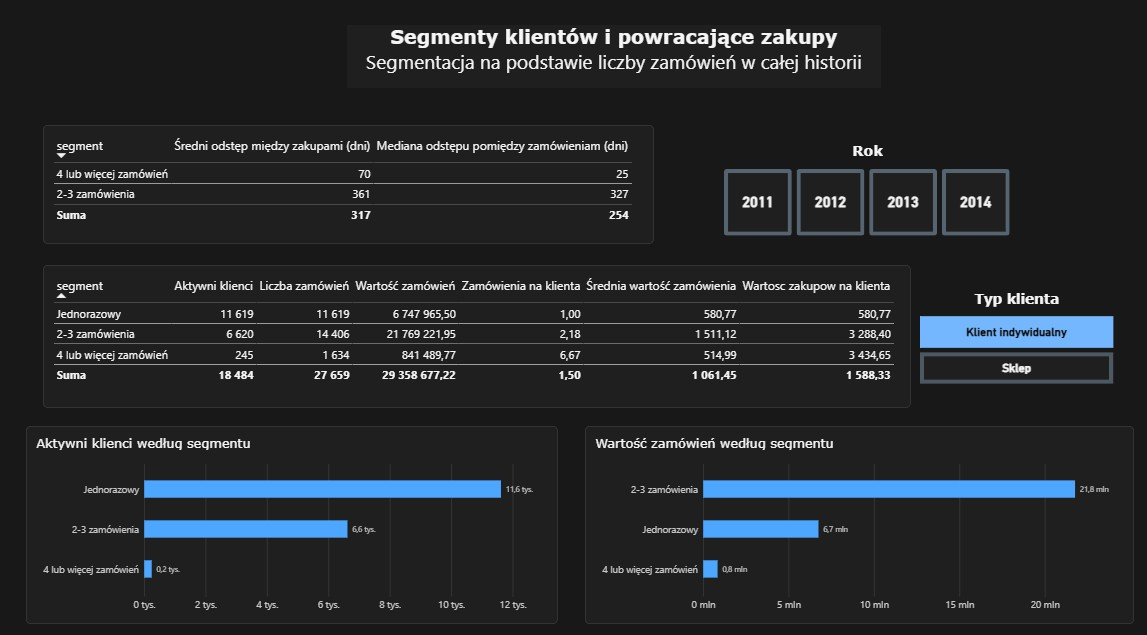

The dashboard page shown, as its layout file describes it:
{"tool":"powerbi","page":{"name":"Segmenty klientów","canvas":[1920,1080],"ordinal":1},"visuals":[{"type":"tableEx","fields":{"Values":["Klienci.segment","_Miary.Aktywni klienci","_Miary.Liczba zamówień","_Miary.Wartość zamówień","_Miary.Zamówienia na klienta","_Miary.Średnia wartość zamówienia","_Miary.Wartosc zakupow na klienta"]},"box":[78.8,452.3,1445.8,237.8],"z":0},{"type":"tableEx","fields":{"Values":["Klienci.segment","_Miary.Średni odstęp między zakupami","_Miary.Mediana odstępu pomiędzy zamówieniami"]},"box":[78.8,218.8,1018.4,198.4],"z":1000},{"type":"barChart","title":"Aktywni klienci według segmentu","fields":{"Category":["Klienci.segment"],"Y":["_Miary.Aktywni klienci"]},"box":[49.6,719.3,885.6,329.7],"z":2000},{"type":"barChart","title":"Wartość zamówień według segmentu","fields":{"Category":["Klienci.segment"],"Y":["_Miary.Wartość zamówień"]},"box":[981.9,719.3,914.8,329.7],"z":3000},{"type":"advancedSlicerVisual","title":"Typ klienta","fields":{"Values":["Klienci.typ_klienta"]},"box":[1540.7,493.1,322.4,156.1],"z":4001},{"type":"advancedSlicerVisual","fields":{"Values":["Kalendarz.ROK"]},"box":[1213.9,246.6,478.9,156.3],"z":4002},{"type":"textbox","box":[585,51.1,890,105],"z":4003}]}

Visuals, with their boxes in screenshot pixels (x1, y1, x2, y2), scaled from the page's 1920x1080 canvas onto the 1147x635 screenshot:
tableEx - Klienci.segment x _Miary.Aktywni klienci: 47:266:911:406
tableEx - Klienci.segment x _Miary.Średni odstęp między zakupami: 47:129:655:245
"Aktywni klienci według segmentu" barChart: 30:423:559:617
"Wartość zamówień według segmentu" barChart: 587:423:1133:617
"Typ klienta" advancedSlicerVisual: 920:290:1113:382
advancedSlicerVisual - Kalendarz.ROK: 725:145:1011:237
textbox: 349:30:881:92
